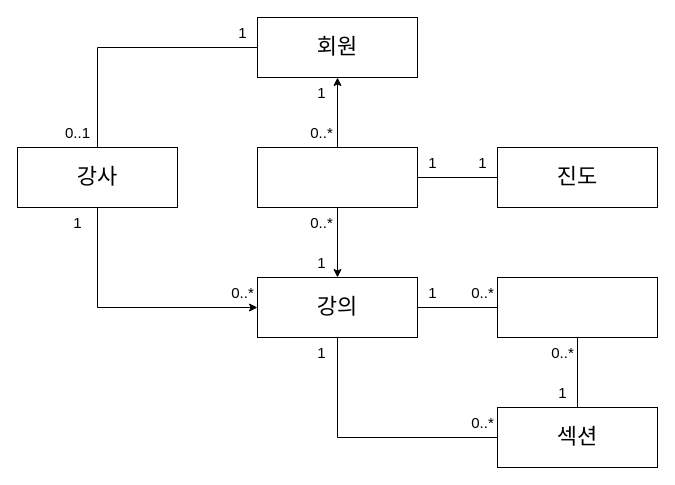
This 675x485 diagram has some shape labels left out. Each missing label, with the box of its shape:
수강: (256, 146, 418, 208)
수업: (496, 276, 658, 338)
